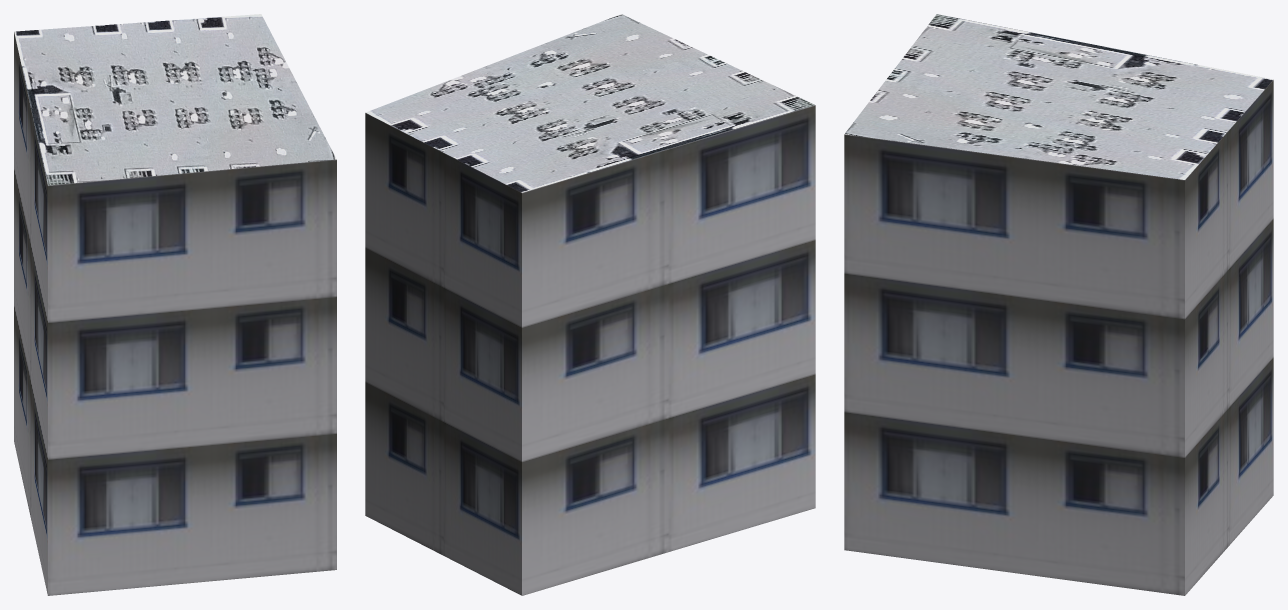
Rendered from ResTex__2565.fbx.
The picture shows the model from 3 angles, left to right: view 1: azimuth 30°, elevation 25°; view 2: azimuth 150°, elevation 25°; view 3: azimuth 270°, elevation 25°; orthographic projection. The views are drawn at different scales.
Visible parts, largest first — view 1: CityEngineMaterial_9_m, CityEngineMaterial_8_m; view 2: CityEngineMaterial_9_m, CityEngineMaterial_8_m; view 3: CityEngineMaterial_9_m, CityEngineMaterial_8_m.
Boxes of the visible parts, bbox=[...] form: CityEngineMaterial_9_m: bbox=[14, 32, 336, 595]; CityEngineMaterial_8_m: bbox=[14, 14, 336, 185]; CityEngineMaterial_9_m: bbox=[365, 105, 815, 595]; CityEngineMaterial_8_m: bbox=[366, 14, 814, 192]; CityEngineMaterial_9_m: bbox=[844, 80, 1273, 595]; CityEngineMaterial_8_m: bbox=[844, 14, 1273, 179].
Bounding box in the file's own units: 7.71 × 9 × 8.42.
2 materials, 2 textured.
